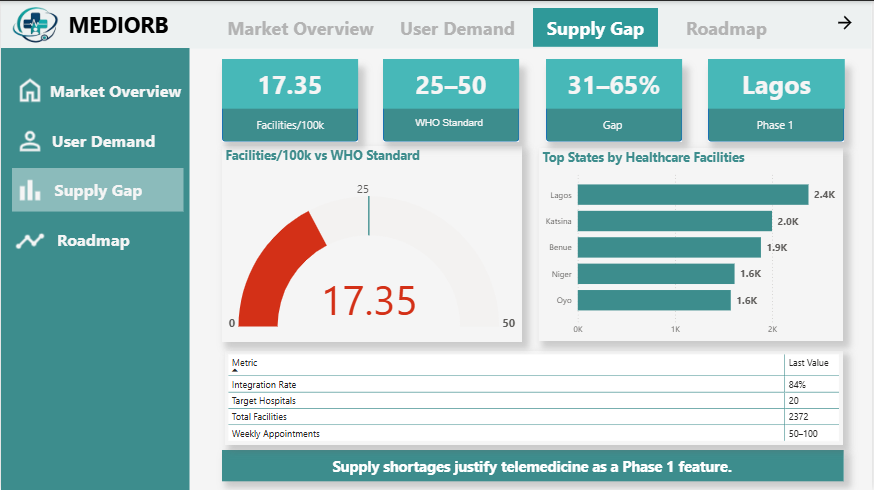

What the dashboard file says about the page in this screenshot:
{"tool":"powerbi","page":{"name":"Page 3","canvas":[1280,720],"ordinal":2},"visuals":[{"type":"shape","title":"PI_Header","box":[0,0,1279.3,70.1],"z":0,"group":"g8"},{"type":"actionButton","box":[577.5,11.8,189.6,57.3],"z":0,"group":"g7"},{"type":"textbox","title":"P1_Market1","box":[321.8,16.2,236.6,52.9],"z":0,"group":"g6"},{"type":"textbox","title":"P1_User1","box":[570.2,16.2,201.3,52.9],"z":0,"group":"g4"},{"type":"group","id":"g1","title":"P3_Content","box":[324.7,85.2,915.4,620.9],"z":0},{"type":"group","id":"g2","title":"Group 1","box":[324.8,92.6,914.1,121.9],"z":0,"group":"g5"},{"type":"shape","box":[561.4,93.2,200.2,114.4],"z":0,"group":"g2"},{"type":"group","id":"g3","title":"P2","box":[324.9,212.4,914,493.7],"z":0,"group":"g1"},{"type":"clusteredBarChart","title":"Top States by Healthcare Facilities","fields":{"Y":["Table1 (2).Facilities Count"],"Category":["state_population_2026_lookup.State"]},"box":[790,215.2,446.9,284.2],"z":0,"group":"g3"},{"type":"textbox","title":"P1_MEDIORB","box":[94,7.3,157.2,52.9],"z":1000,"group":"g8"},{"type":"group","id":"g4","title":"Group 2","box":[323.3,10.3,828.7,58.8],"z":1000,"group":"g6"},{"type":"actionButton","box":[323.3,11.8,236.6,57.3],"z":1000,"group":"g7"},{"type":"group","id":"g5","title":"P2_Cards","box":[324.7,85.2,915.4,129.3],"z":1000,"group":"g1"},{"type":"card","title":"Nigeria Population","fields":{"Values":["Table1 (2).WHO Standard"]},"box":[561.3,85.2,199.8,73.5],"z":1000,"group":"g5"},{"type":"shape","box":[801,93.2,200.2,114.4],"z":1000,"group":"g2"},{"type":"shape","title":"P1_CardShape","box":[325.4,659.6,913.5,46.5],"z":1000,"group":"g3"},{"type":"actionButton","box":[781.7,10.3,183.7,57.3],"z":2000,"group":"g7"},{"type":"image","title":"P1_ARROWICON","box":[1225.5,11.8,29.4,39.7],"z":2000,"group":"g8"},{"type":"textbox","title":"P1_Roadmap1","box":[980.1,16.2,171.9,52.9],"z":2000,"group":"g4"},{"type":"card","title":"Nigeria Population","fields":{"Values":["state_population_2026_lookup.Gap Display"]},"box":[800.8,85.2,199.8,73.5],"z":2000,"group":"g5"},{"type":"shape","box":[1038.7,93.2,200.2,114.4],"z":2000,"group":"g2"},{"type":"textbox","title":"P1_CardText","box":[482.2,662.9,604.2,39.3],"z":2000,"group":"g3"},{"type":"group","id":"g6","title":"Group 3","box":[321.8,10.3,830.2,58.8],"z":3000,"group":"g8"},{"type":"group","id":"g7","title":"P1TOPBUTTONS","box":[323.3,10.3,828.7,58.8],"z":3000,"group":"g4"},{"type":"actionButton","box":[980.1,10.3,171.9,57.3],"z":3000,"group":"g7"},{"type":"shape","title":"P1_Navigation","box":[0,69.1,277.1,650.7],"z":3000},{"type":"card","title":"Nigeria Population","fields":{"Values":["Table1 (2).Phase1"]},"box":[1038.8,85.2,201.3,73.5],"z":3000,"group":"g5"},{"type":"shape","box":[324.8,92.6,200.2,114.4],"z":3000,"group":"g2"},{"type":"gauge","title":"Facilities/100k vs WHO Standard ","fields":{"TargetValue":["Table1 (2).WHO Target"],"MaxValue":["Table1 (2).Gauge Max"],"MinValue":["Table1 (2).Gauge Min"],"Y":["state_population_2026_lookup.Facilities per 100k 2"]},"box":[324.9,212.4,440.7,288],"z":3000,"group":"g3"},{"type":"group","id":"g8","title":"P1_HEADER","box":[0,0,1279.3,70.1],"z":3125},{"type":"textbox","title":"P1_NAV_Market","box":[60.8,110.8,216.3,44.7],"z":3250},{"type":"textbox","title":"P1_Supply1","box":[781.7,16.2,183.7,52.9],"z":3500,"group":"g4"},{"type":"card","title":"Nigeria Population","fields":{"Values":["state_population_2026_lookup.Facilities per 100k 2"]},"box":[324.7,85.2,199.8,73.5],"z":4000,"group":"g5"},{"type":"textbox","box":[561.4,164.5,198.4,50],"z":4000,"group":"g2"},{"type":"pivotTable","fields":{"Rows":["Phase1Metrics.Metric"],"Values":["Max(Phase1Metrics.Value)"]},"box":[329,513,908.2,137.7],"z":4000,"group":"g3"},{"type":"textbox","box":[1045.3,165.9,185.9,48.3],"z":5000,"group":"g2"},{"type":"textbox","title":"P1_NAV_Roadmap","box":[75.1,328.9,121.6,53.6],"z":5000},{"type":"actionButton","title":"Marketoverview Button","box":[16.1,98.3,253.8,64.4],"z":6000},{"type":"textbox","box":[870,165.9,48.3,46.5],"z":6000,"group":"g2"},{"type":"textbox","box":[332,165.9,185.9,48.3],"z":7000,"group":"g2"},{"type":"actionButton","title":"Supplygap Button","box":[16.1,244.9,252.1,64.4],"z":7000},{"type":"textbox","title":"P1_NAV_Supply","box":[73.3,255.6,139.4,53.6],"z":9000},{"type":"actionButton","title":"Roadmap Button","box":[16.1,320,252.1,64.4],"z":10000},{"type":"image","title":"P1_MEDIORBICON","box":[0,2.9,105.8,61.7],"z":14000},{"type":"actionButton","title":"Userdemand Button","box":[16.1,173.4,253.8,64.4],"z":15500},{"type":"textbox","title":"P1_NAV_UserDemand","box":[67.9,184.1,166.3,53.6],"z":16000}]}

Visuals, with their boxes in screenshot pixels (x1, y1, x2, y2), scaled from the page's 1280x720 canvas onto the 874x490 screenshot:
"PI_Header" shape: BBox(0, 0, 873, 48)
actionButton: BBox(394, 8, 524, 47)
"P1_Market1" textbox: BBox(220, 11, 381, 47)
"P1_User1" textbox: BBox(389, 11, 527, 47)
"P3_Content" group: BBox(222, 58, 847, 481)
"Group 1" group: BBox(222, 63, 846, 146)
shape: BBox(383, 63, 520, 141)
"P2" group: BBox(222, 145, 846, 481)
"Top States by Healthcare Facilities" clusteredBarChart: BBox(539, 146, 845, 340)
"P1_MEDIORB" textbox: BBox(64, 5, 172, 41)
"Group 2" group: BBox(221, 7, 787, 47)
actionButton: BBox(221, 8, 382, 47)
"P2_Cards" group: BBox(222, 58, 847, 146)
"Nigeria Population" card: BBox(383, 58, 520, 108)
shape: BBox(547, 63, 684, 141)
"P1_CardShape" shape: BBox(222, 449, 846, 481)
actionButton: BBox(534, 7, 659, 46)
"P1_ARROWICON" image: BBox(837, 8, 857, 35)
"P1_Roadmap1" textbox: BBox(669, 11, 787, 47)
"Nigeria Population" card: BBox(547, 58, 683, 108)
shape: BBox(709, 63, 846, 141)
"P1_CardText" textbox: BBox(329, 451, 742, 478)
"Group 3" group: BBox(220, 7, 787, 47)
"P1TOPBUTTONS" group: BBox(221, 7, 787, 47)
actionButton: BBox(669, 7, 787, 46)
"P1_Navigation" shape: BBox(0, 47, 189, 489)
"Nigeria Population" card: BBox(709, 58, 847, 108)
shape: BBox(222, 63, 358, 141)
"Facilities/100k vs WHO Standard " gauge: BBox(222, 145, 523, 341)
"P1_HEADER" group: BBox(0, 0, 873, 48)
"P1_NAV_Market" textbox: BBox(42, 75, 189, 106)
"P1_Supply1" textbox: BBox(534, 11, 659, 47)
"Nigeria Population" card: BBox(222, 58, 358, 108)
textbox: BBox(383, 112, 519, 146)
pivotTable - Phase1Metrics.Metric x Max(Phase1Metrics.Value): BBox(225, 349, 845, 443)
textbox: BBox(714, 113, 841, 146)
"P1_NAV_Roadmap" textbox: BBox(51, 224, 134, 260)
"Marketoverview Button" actionButton: BBox(11, 67, 184, 111)
textbox: BBox(594, 113, 627, 145)
textbox: BBox(227, 113, 354, 146)
"Supplygap Button" actionButton: BBox(11, 167, 183, 210)
"P1_NAV_Supply" textbox: BBox(50, 174, 145, 210)
"Roadmap Button" actionButton: BBox(11, 218, 183, 262)
"P1_MEDIORBICON" image: BBox(0, 2, 72, 44)
"Userdemand Button" actionButton: BBox(11, 118, 184, 162)
"P1_NAV_UserDemand" textbox: BBox(46, 125, 160, 162)
